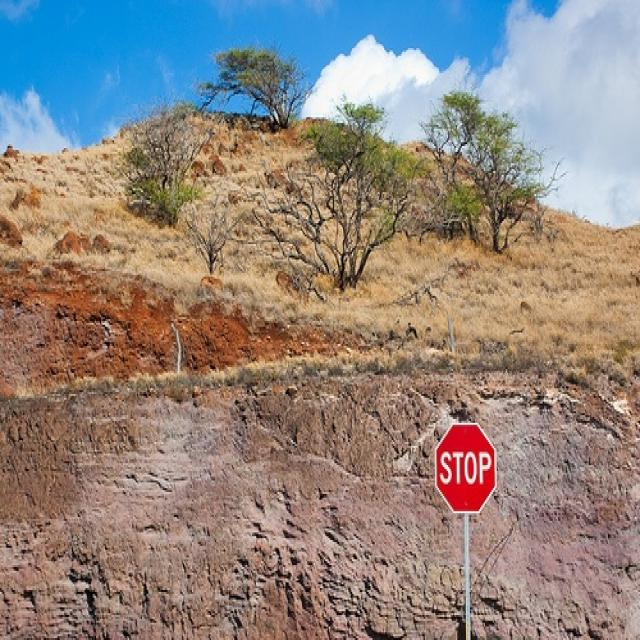pole: (461, 511, 475, 636)
